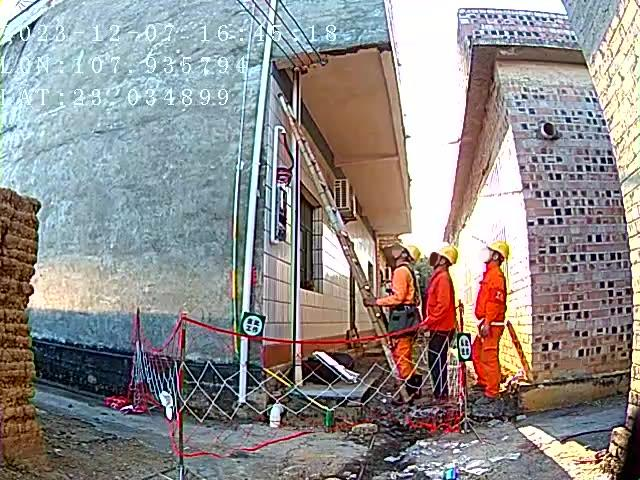halt: (393, 240, 425, 270), (485, 243, 513, 269), (431, 248, 461, 272)
